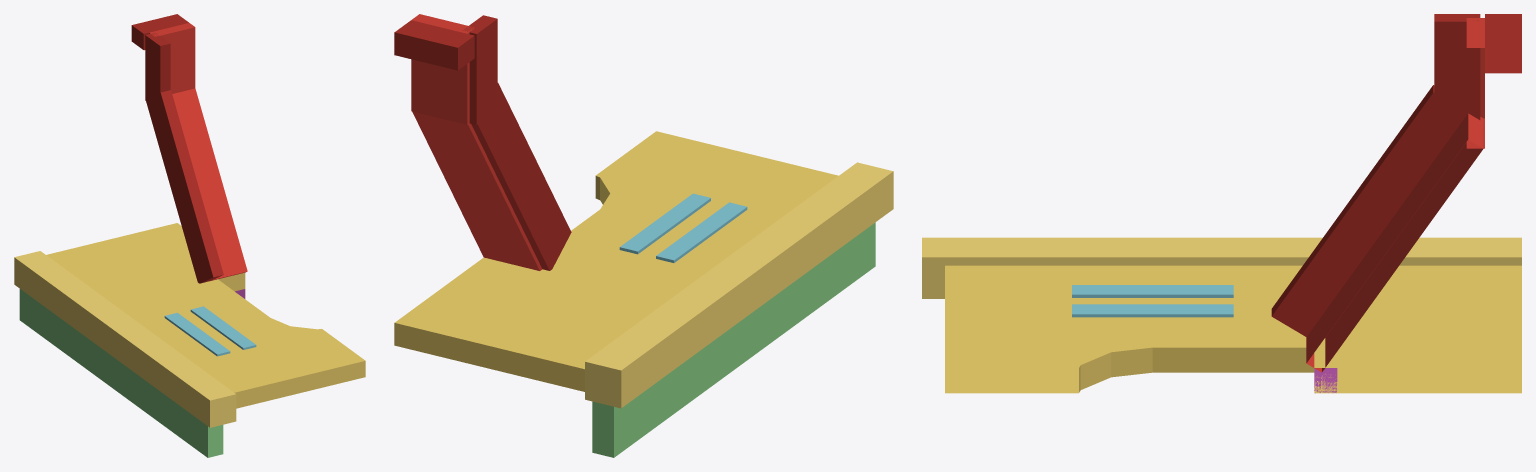
Rendered from section-0.obj.
The picture shows the model from 3 angles, left to right: view 1: azimuth 30°, elevation 25°; view 2: azimuth 150°, elevation 25°; view 3: azimuth 270°, elevation 25°; orthographic projection. The views are drawn at different scales.
Bounding box in the file's own units: 0.625 × 0.98 × 1.3.
Materials: 1 (1 with a texture image).
